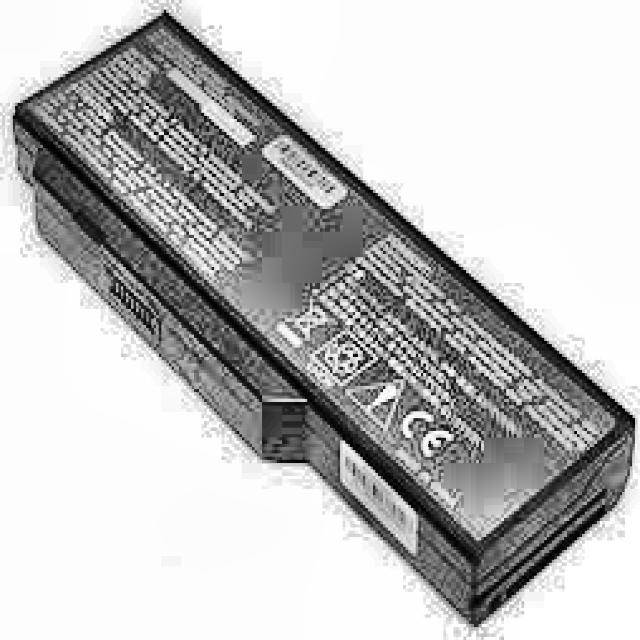Battery: (18, 16, 635, 621)
